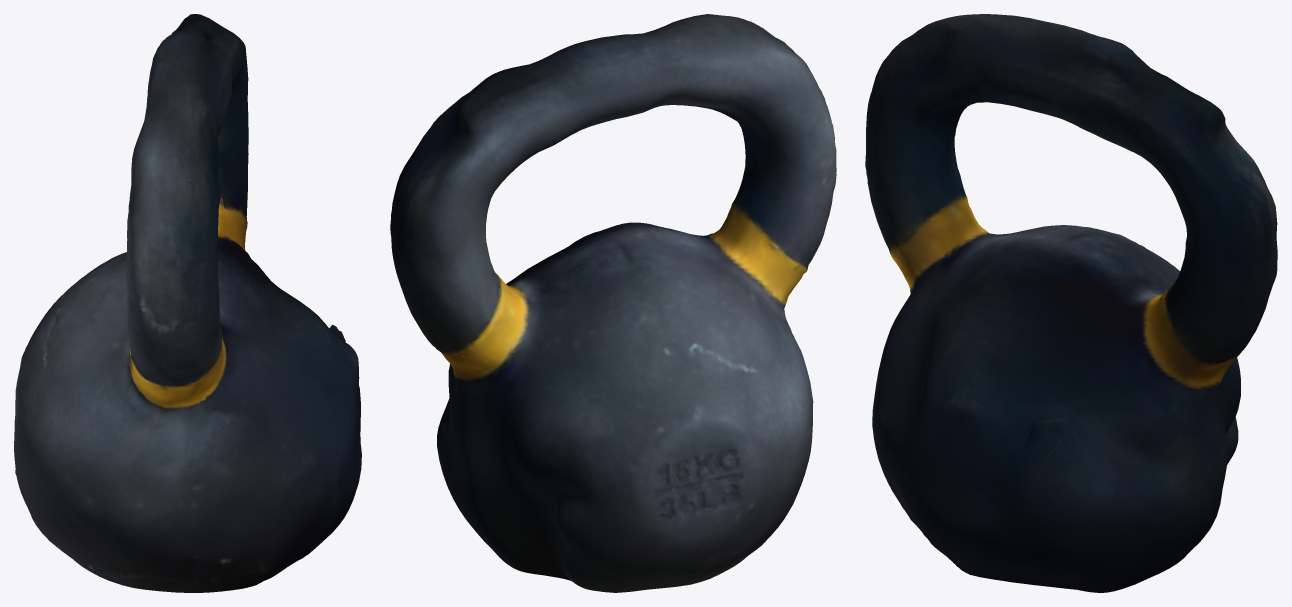
File: 3DModel.gltf
3 views of the same model, side by side, from view 1: azimuth 30°, elevation 25°; view 2: azimuth 150°, elevation 25°; view 3: azimuth 270°, elevation 25° (orthographic). The views are drawn at different scales.
Visible parts, largest first — view 1: 3DModel; view 2: 3DModel; view 3: 3DModel.
Boxes of the visible parts, bbox=[...] form: 3DModel: bbox=[14, 14, 361, 592]; 3DModel: bbox=[390, 14, 836, 592]; 3DModel: bbox=[865, 14, 1277, 592].
Size of the model in its own units: 0.1584 by 0.2327 by 0.1734.
Materials: 1 (1 with a texture image).
